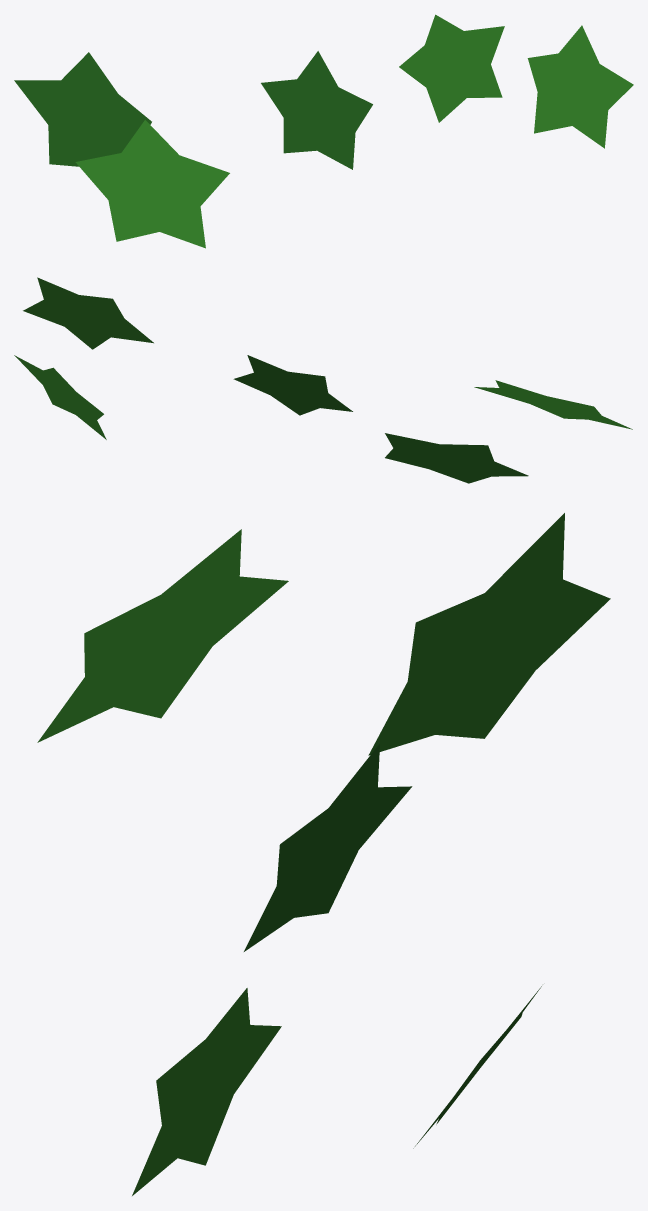
3 views of the same model, one above another, from view 1: azimuth 30°, elevation 25°; view 2: azimuth 150°, elevation 25°; view 3: azimuth 270°, elevation 25° (orthographic). The views are drawn at different scales.
Visible parts, largest first — view 1: r24c2_l10; view 2: r24c2_l10; view 3: r24c2_l10.
Boxes of the visible parts, x1,y1,x2,y2 form: r24c2_l10: [14, 14, 633, 248]; r24c2_l10: [14, 277, 632, 483]; r24c2_l10: [37, 513, 610, 1195].
Size of the model in its own units: 1.58 by 0.315 by 0.7126.
